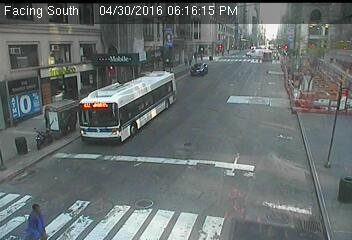neg: (293, 41, 324, 82), (91, 161, 120, 199), (259, 117, 287, 154), (187, 56, 213, 91), (301, 160, 327, 194), (209, 107, 234, 140), (145, 60, 169, 92), (141, 160, 164, 190), (246, 75, 268, 105), (106, 71, 128, 100), (183, 155, 205, 183), (29, 120, 45, 142), (63, 89, 79, 111), (247, 29, 263, 49), (188, 31, 200, 46)
pos: (23, 199, 49, 234)
